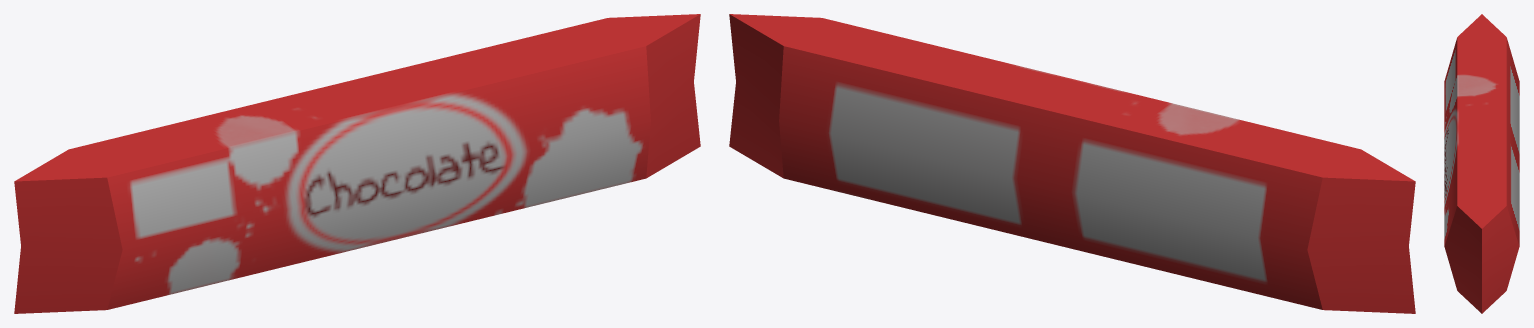
The model's file is Chocolate_07.fbx.
The picture shows the model from 3 angles, left to right: view 1: azimuth 30°, elevation 25°; view 2: azimuth 150°, elevation 25°; view 3: azimuth 270°, elevation 25°; orthographic projection. The views are drawn at different scales.
Visible parts, largest first — view 1: Chocolate_07; view 2: Chocolate_07; view 3: Chocolate_07.
Boxes of the visible parts, <box> form: Chocolate_07: <box>14,14,700,313</box>; Chocolate_07: <box>729,14,1415,313</box>; Chocolate_07: <box>1444,14,1519,313</box>.
Size of the model in its own units: 27.61 by 5.09 by 4.08.
